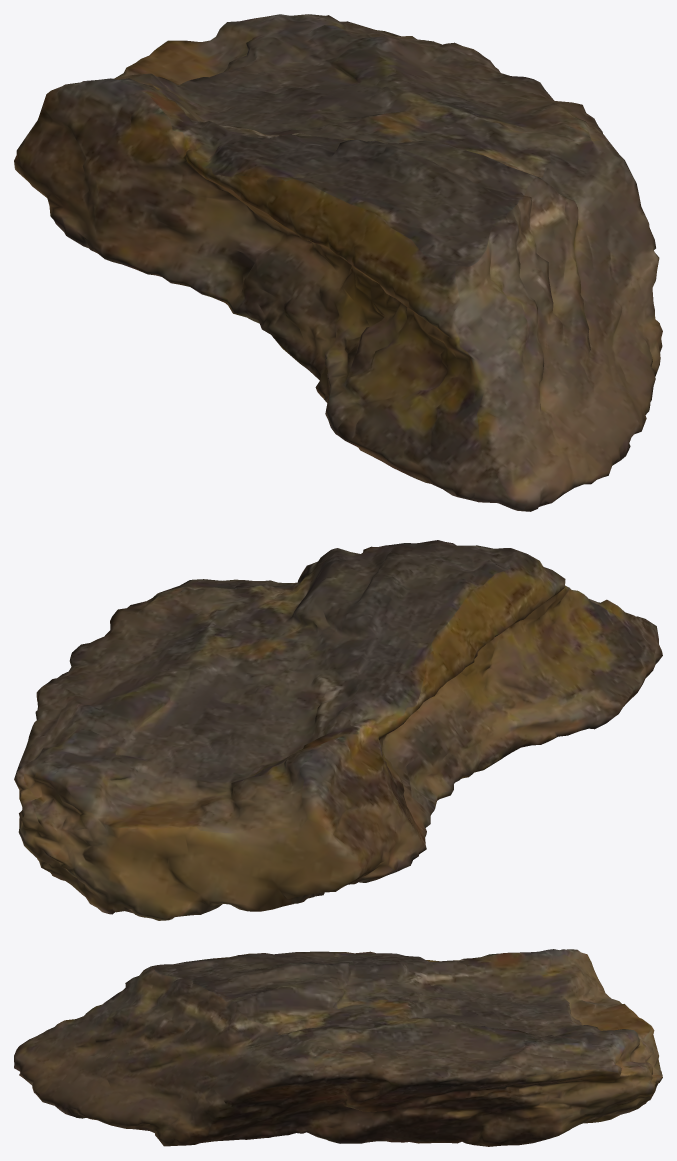
Rendered from rock_09.glb.
3 views of the same model, one above another, from view 1: azimuth 30°, elevation 25°; view 2: azimuth 150°, elevation 25°; view 3: azimuth 270°, elevation 25° (orthographic). The views are drawn at different scales.
Visible parts, largest first — view 1: rock_09_LOD0; view 2: rock_09_LOD0; view 3: rock_09_LOD0.
Part boxes in pixels (x1=…): rock_09_LOD0: x1=14, y1=14, x2=662, y2=511; rock_09_LOD0: x1=14, y1=540, x2=662, y2=920; rock_09_LOD0: x1=14, y1=949, x2=662, y2=1146.
Size of the model in its own units: 0.074 by 0.0329 by 0.1446.
1 material, 1 textured.
